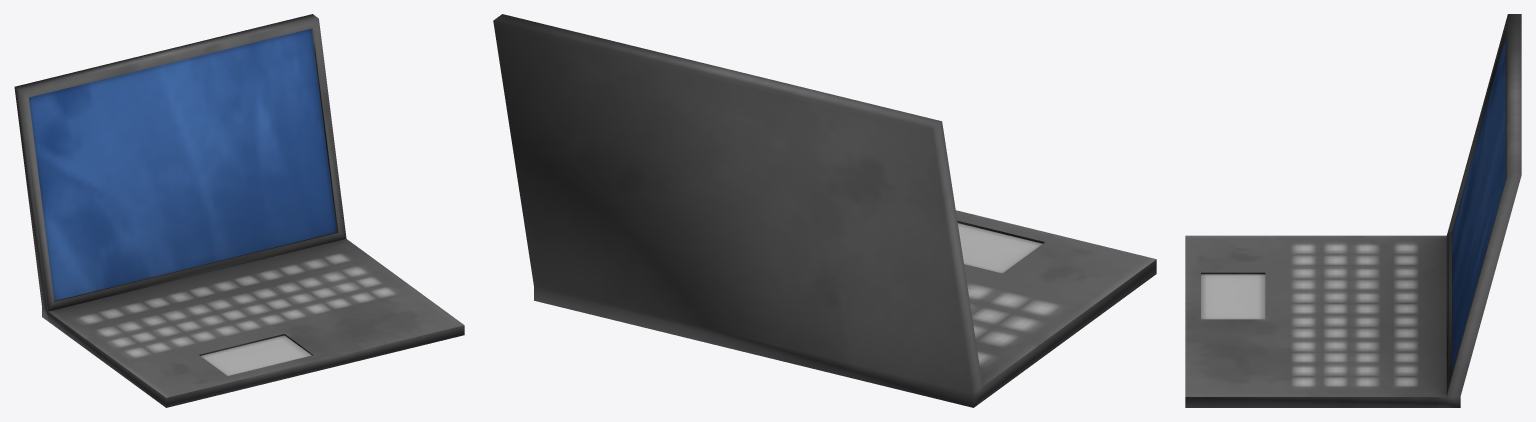
The model's file is Laptop1.fbx.
3 views of the same model, side by side, from view 1: azimuth 30°, elevation 25°; view 2: azimuth 150°, elevation 25°; view 3: azimuth 270°, elevation 25° (orthographic). The views are drawn at different scales.
Parts seen in each view (by area): view 1: Laptop1; view 2: Laptop1; view 3: Laptop1.
Part boxes in pixels (x1,y1,x2,y2): Laptop1: (14,14,464,407); Laptop1: (493,14,1156,407); Laptop1: (1185,14,1521,407).
Bounding box in the file's own units: 0.624 × 0.42 × 0.55.
Materials: 1 (1 with a texture image).
